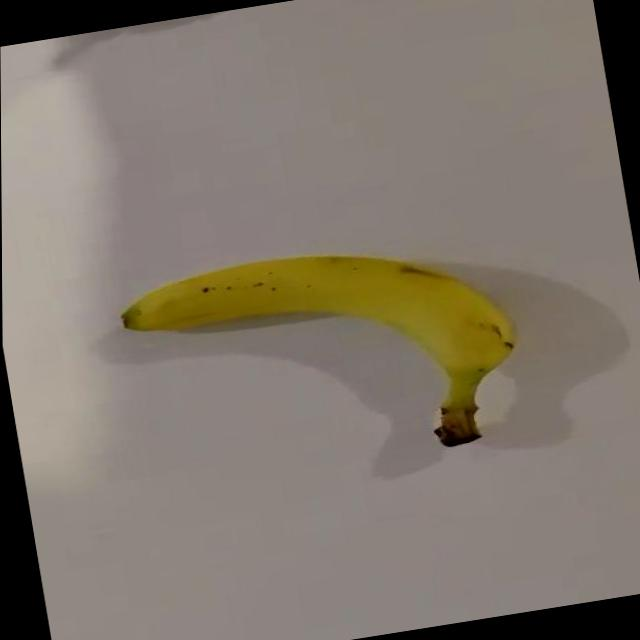Banana: (115, 226, 530, 485)
